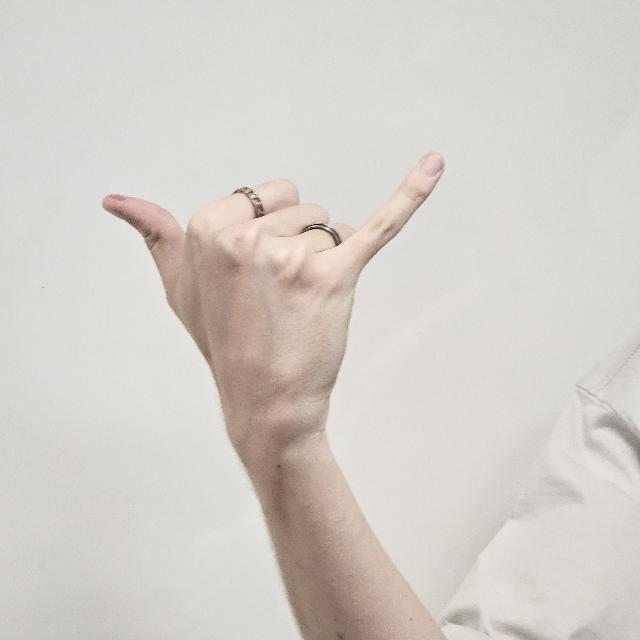Direita: (99, 145, 448, 493)
